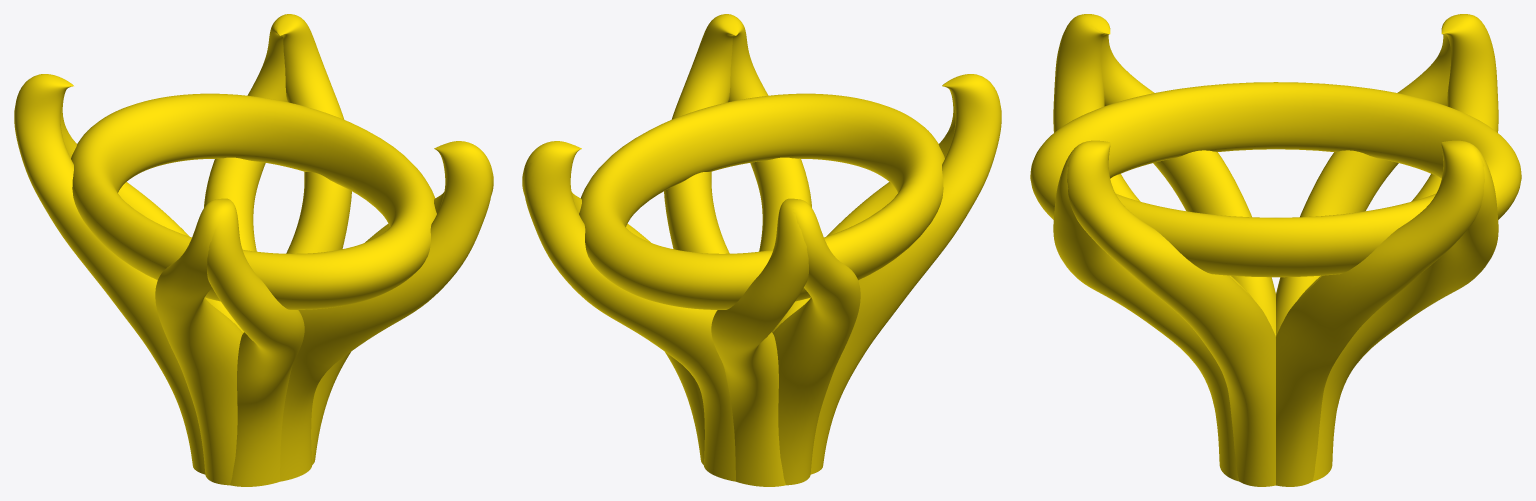
The model's file is OVAL.glb.
3 renders of one model, left to right at view 1: azimuth 30°, elevation 25°; view 2: azimuth 150°, elevation 25°; view 3: azimuth 270°, elevation 25°, orthographic. The views are drawn at different scales.
Visible parts, largest first — view 1: HD-Tulip-Oval-103dm; view 2: HD-Tulip-Oval-103dm; view 3: HD-Tulip-Oval-103dm.
Boxes of the visible parts, x1,y1,x2,y2 form: HD-Tulip-Oval-103dm: (14,14,493,486); HD-Tulip-Oval-103dm: (522,14,1001,486); HD-Tulip-Oval-103dm: (1030,14,1521,486).
Bounding box in the file's own units: 5 × 5.52 × 6.47.
